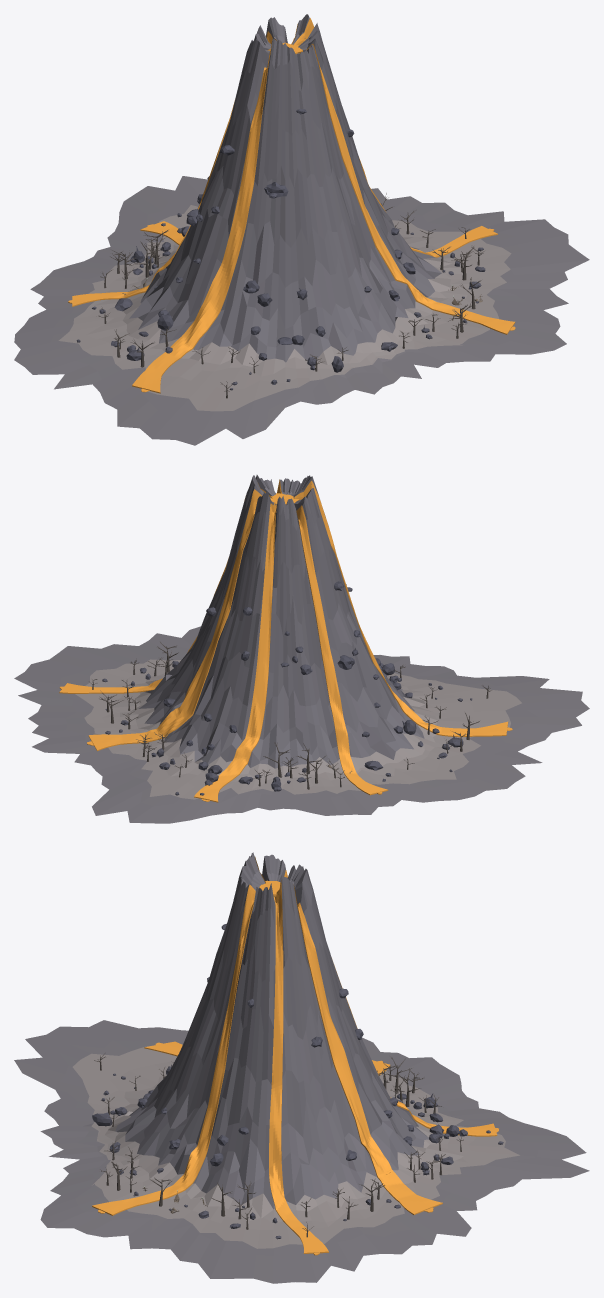
The model's file is island_pack.glb.
The picture shows the model from 3 angles, top to bottom: view 1: azimuth 30°, elevation 25°; view 2: azimuth 150°, elevation 25°; view 3: azimuth 270°, elevation 25°; orthographic projection. The views are drawn at different scales.
Parts seen in each view (by area): view 1: Volcano_Base, Volcano_Lava, Volcano_Rocks, Volcano_DeadTrees; view 2: Volcano_Base, Volcano_Lava, Volcano_Rocks, Volcano_DeadTrees; view 3: Volcano_Base, Volcano_Lava, Volcano_Rocks, Volcano_DeadTrees.
Part boxes in pixels (x1=…): Volcano_Base: x1=14, y1=14, x2=589, y2=445; Volcano_Lava: x1=68, y1=18, x2=515, y2=393; Volcano_Rocks: x1=76, y1=108, x2=485, y2=390; Volcano_DeadTrees: x1=96, y1=193, x2=484, y2=398; Volcano_Base: x1=14, y1=475, x2=589, y2=823; Volcano_Lava: x1=59, y1=479, x2=512, y2=802; Volcano_Rocks: x1=102, y1=581, x2=472, y2=795; Volcano_DeadTrees: x1=89, y1=642, x2=491, y2=789; Volcano_Base: x1=14, y1=852, x2=589, y2=1283; Volcano_Lava: x1=92, y1=857, x2=498, y2=1255; Volcano_Rocks: x1=92, y1=923, x2=503, y2=1239; Volcano_DeadTrees: x1=94, y1=1052, x2=463, y2=1237.
Bounding box in the file's own units: 1912 × 942 × 1730.
